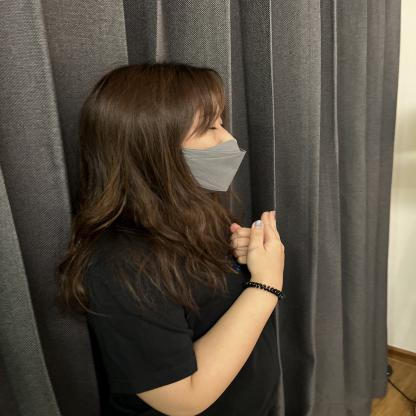Grieve: (171, 189, 347, 348)
